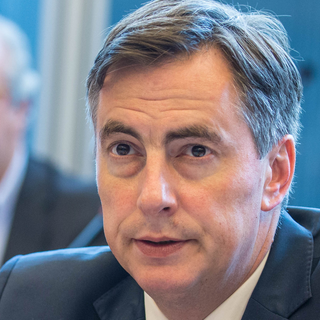eye: (173, 139, 221, 165), (102, 136, 144, 164)
